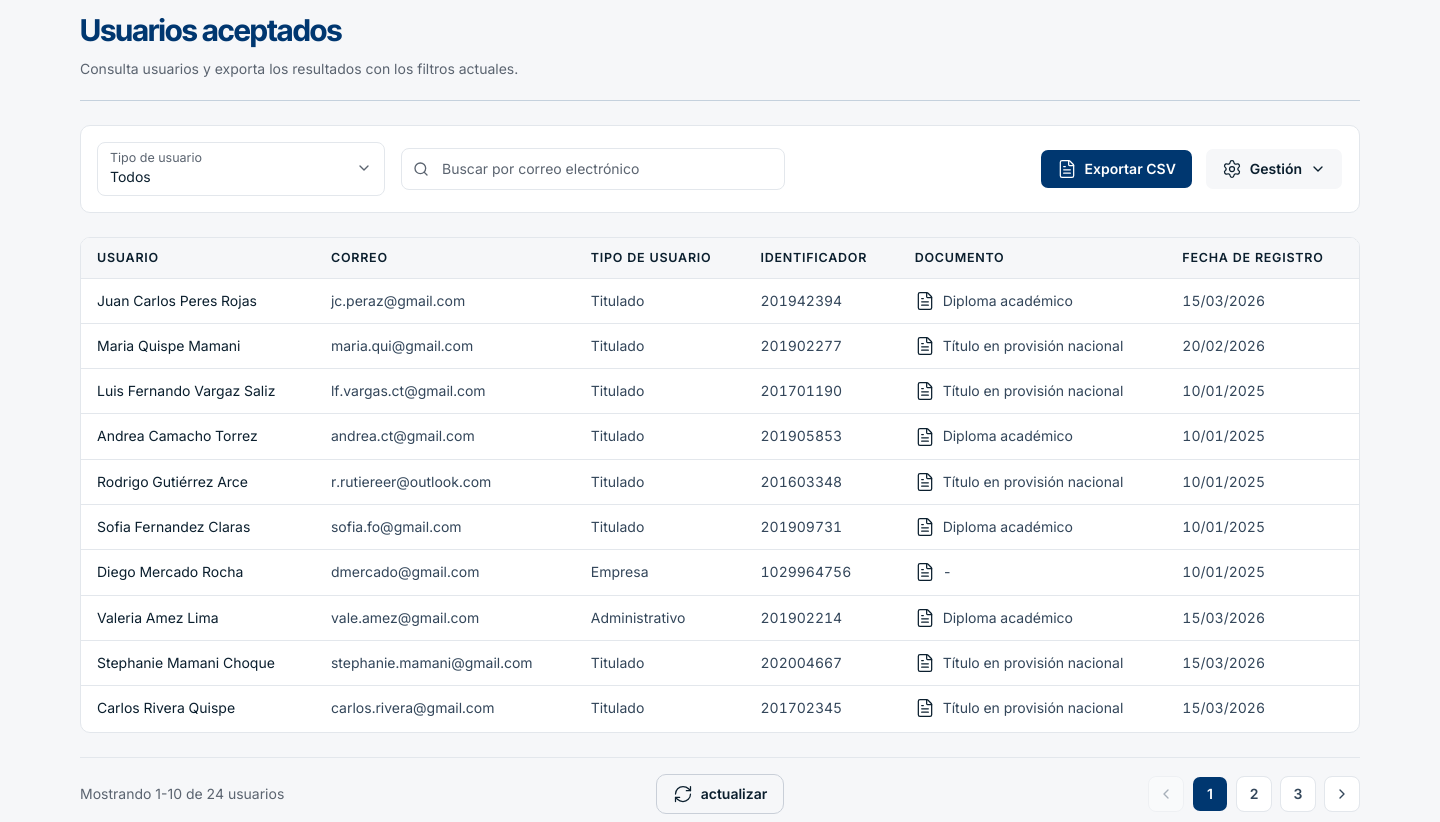
Scenario: RegisteredUsersReportView › ofrece las opciones de tipo de usuario en orden
The width and height of the screenshot is (1440, 822).
Click the dropdown labelled "Tipo de usuario": click(156, 158) x1=97 y1=142 x2=385 y2=196
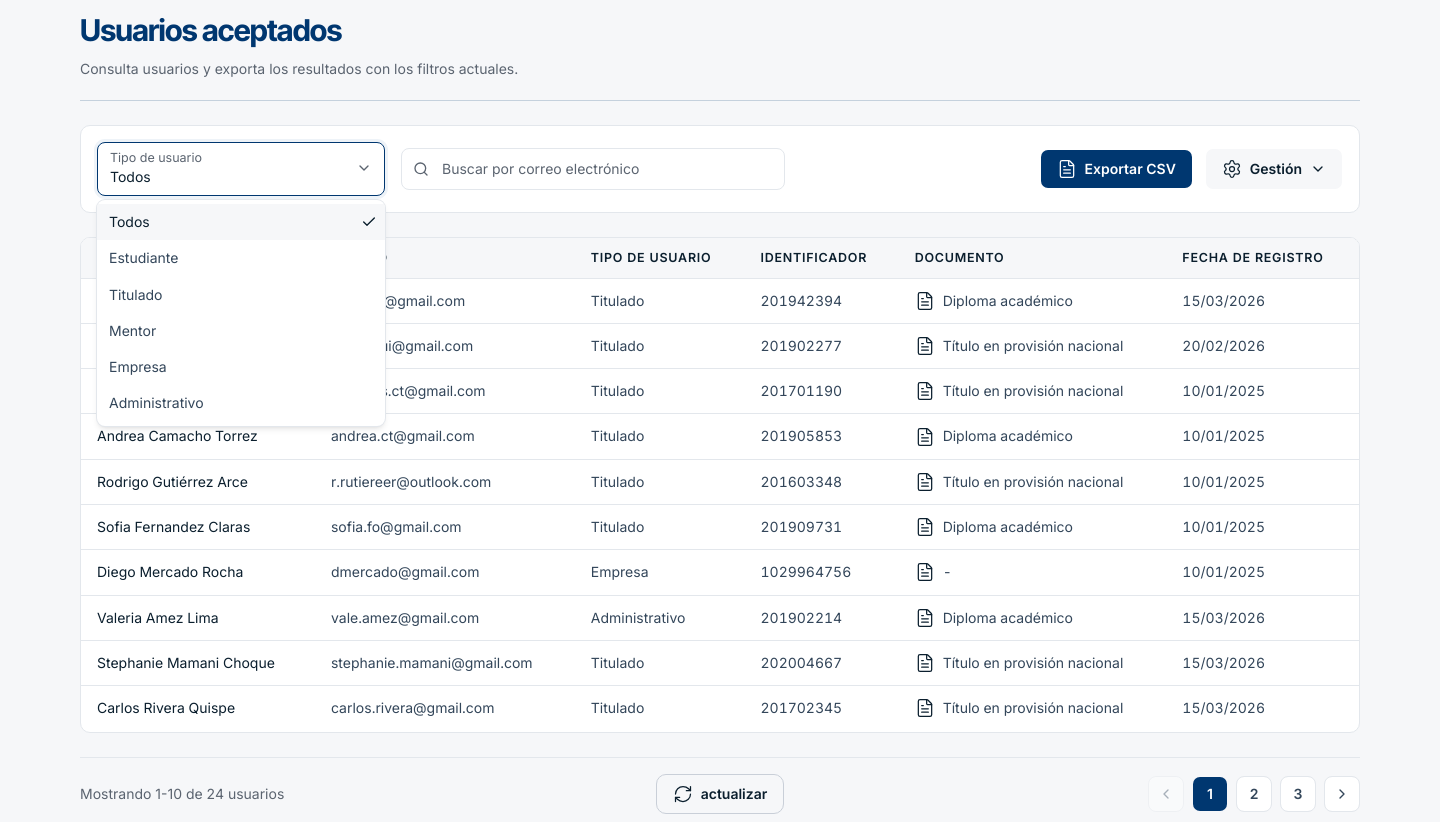
Check: the list is shown, box x1=97 y1=204 x2=385 y2=422
Check: the options read "Todos", "Estudiante", "Titulado", "Mentor", "Empresa", "Administrativo", in this order, box x1=97 y1=204 x2=385 y2=240; x1=109 y1=249 x2=178 y2=266; x1=109 y1=286 x2=162 y2=303; x1=109 y1=322 x2=156 y2=339; x1=109 y1=358 x2=167 y2=375; x1=109 y1=394 x2=204 y2=412
